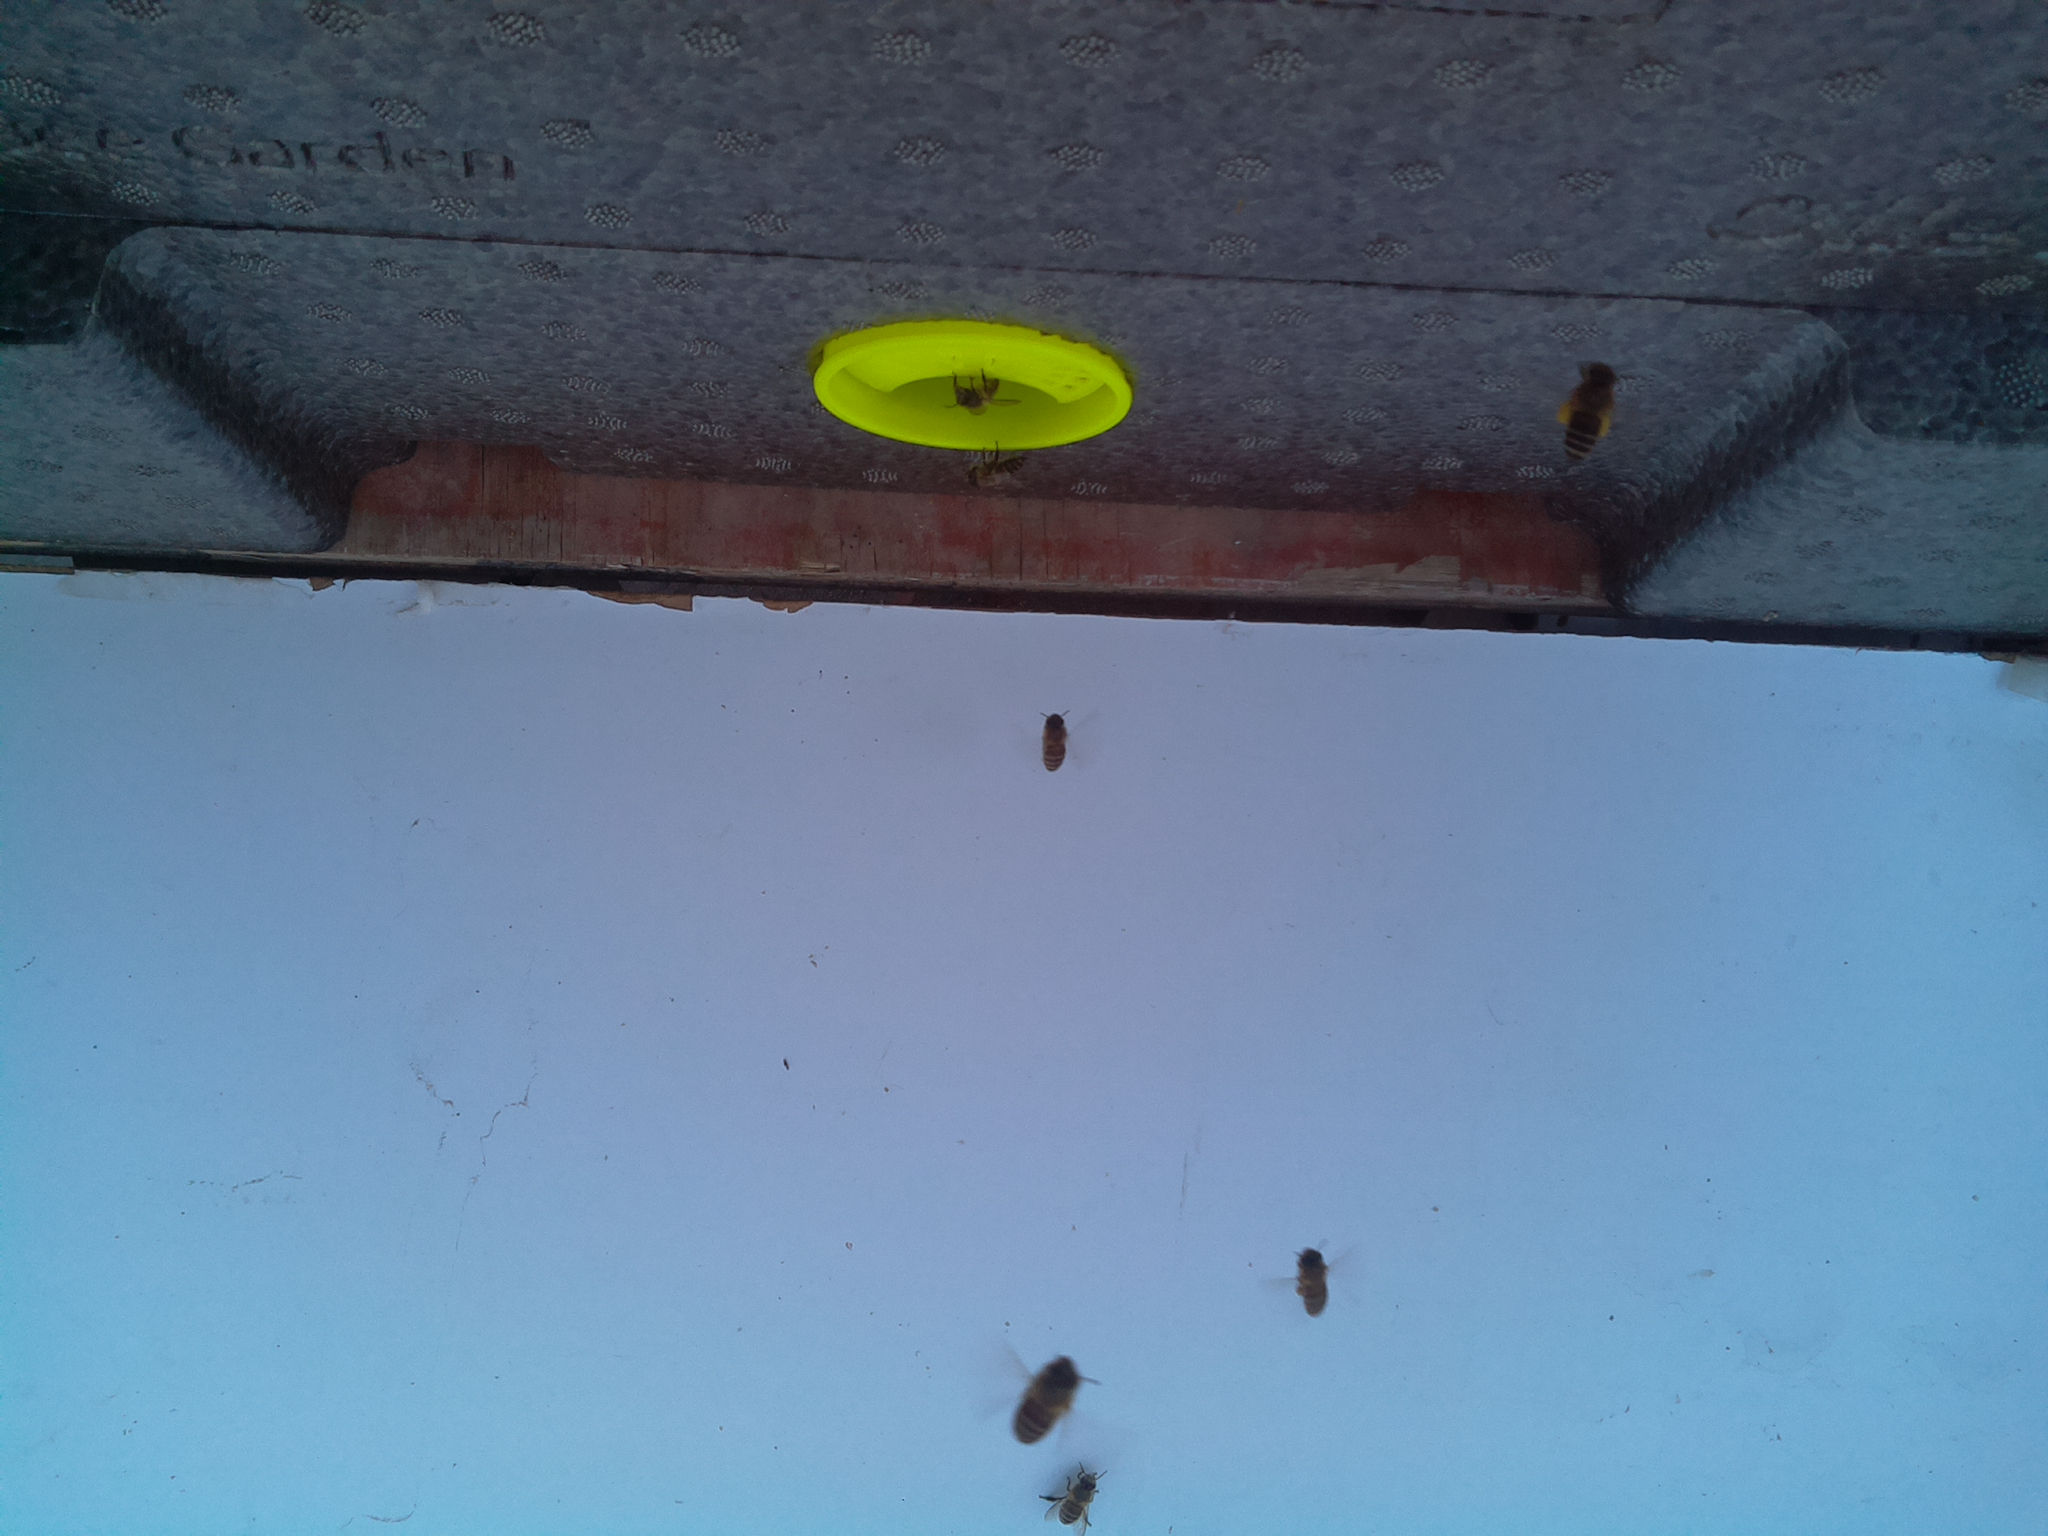bee: (1043, 1466, 1101, 1530)
